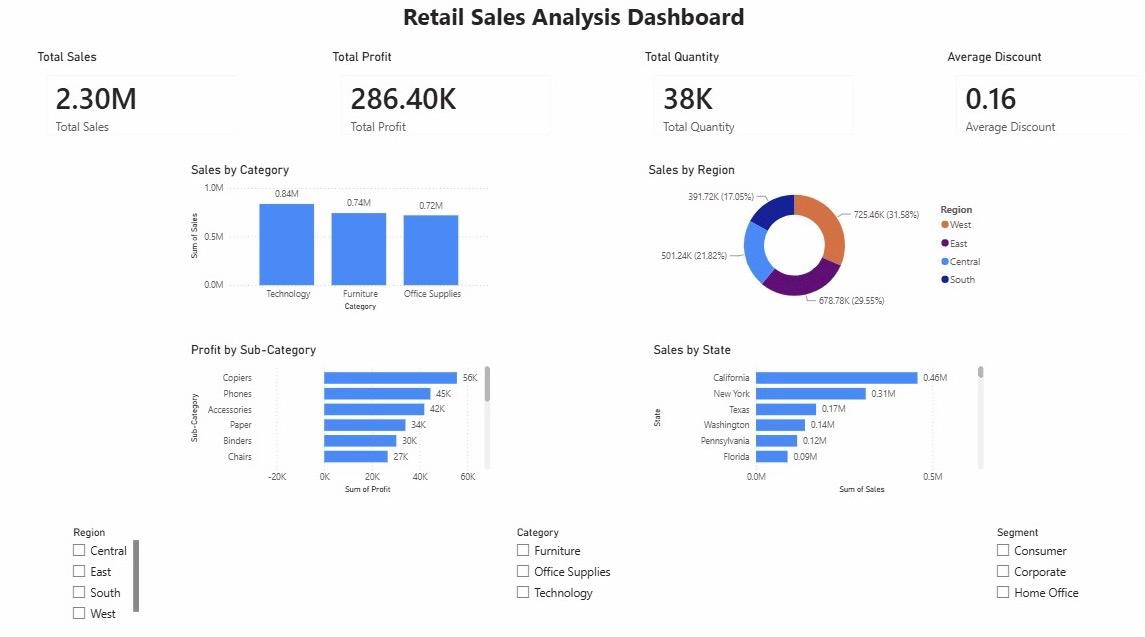

What the dashboard file says about the page in this screenshot:
{"tool":"powerbi","page":{"name":"Sales Dashboard","canvas":[1600,900],"ordinal":0},"visuals":[{"type":"cardVisual","title":"Total Sales","fields":{"Data":["SampleSuperstore.Total Sales"]},"box":[53.6,83,300.7,136.5],"z":0},{"type":"cardVisual","title":"Total Profit","fields":{"Data":["SampleSuperstore.Total Profit"]},"box":[461.3,83,324.9,136.5],"z":1000},{"type":"cardVisual","title":"Total Quantity","fields":{"Data":["SampleSuperstore.Total Quantity"]},"box":[893.3,83,311.1,136.5],"z":2000},{"type":"cardVisual","title":"Average Discount","fields":{"Data":["SampleSuperstore.Average Discount"]},"box":[1311.4,83,288.6,136.5],"z":3000},{"type":"clusteredColumnChart","title":"Sales by Category","fields":{"Category":["SampleSuperstore.Category"],"Y":["Sum(SampleSuperstore.Sales)"]},"box":[265.9,240.1,423.7,209.3],"z":4000},{"type":"donutChart","title":"Sales by Region","fields":{"Category":["SampleSuperstore.Region"],"Y":["Sum(SampleSuperstore.Sales)"]},"box":[898.8,240.1,478.6,209.3],"z":5000},{"type":"clusteredBarChart","title":"Profit by Sub-Category","fields":{"Category":["SampleSuperstore.Sub-Category"],"Y":["Sum(SampleSuperstore.Profit)"]},"box":[265.9,488.9,423.7,214.4],"z":6000},{"type":"clusteredBarChart","title":"Sales by State","fields":{"Category":["SampleSuperstore.State"],"Y":["Sum(SampleSuperstore.Sales)"]},"box":[905.7,488.9,466.6,214.4],"z":7000},{"type":"slicer","fields":{"Values":["SampleSuperstore.Region"]},"box":[95.1,738,108.9,140],"z":8000},{"type":"slicer","fields":{"Values":["SampleSuperstore.Category"]},"box":[708.6,738,159,126.2],"z":9000},{"type":"slicer","fields":{"Values":["SampleSuperstore.Segment"]},"box":[1372.2,738,169.4,126.2],"z":10000},{"type":"textbox","box":[0,10.3,1600.3,60],"z":11000}]}

Visuals, with their boxes in screenshot pixels (x1, y1, x2, y2), scaled from the page's 1600x900 canvas onto the 1145x637 screenshot:
"Total Sales" cardVisual: Rect(38, 59, 254, 155)
"Total Profit" cardVisual: Rect(330, 59, 563, 155)
"Total Quantity" cardVisual: Rect(639, 59, 862, 155)
"Average Discount" cardVisual: Rect(938, 59, 1144, 155)
"Sales by Category" clusteredColumnChart: Rect(190, 170, 493, 318)
"Sales by Region" donutChart: Rect(643, 170, 986, 318)
"Profit by Sub-Category" clusteredBarChart: Rect(190, 346, 493, 498)
"Sales by State" clusteredBarChart: Rect(648, 346, 982, 498)
slicer - SampleSuperstore.Region: Rect(68, 522, 146, 621)
slicer - SampleSuperstore.Category: Rect(507, 522, 621, 612)
slicer - SampleSuperstore.Segment: Rect(982, 522, 1103, 612)
textbox: Rect(0, 7, 1144, 50)
